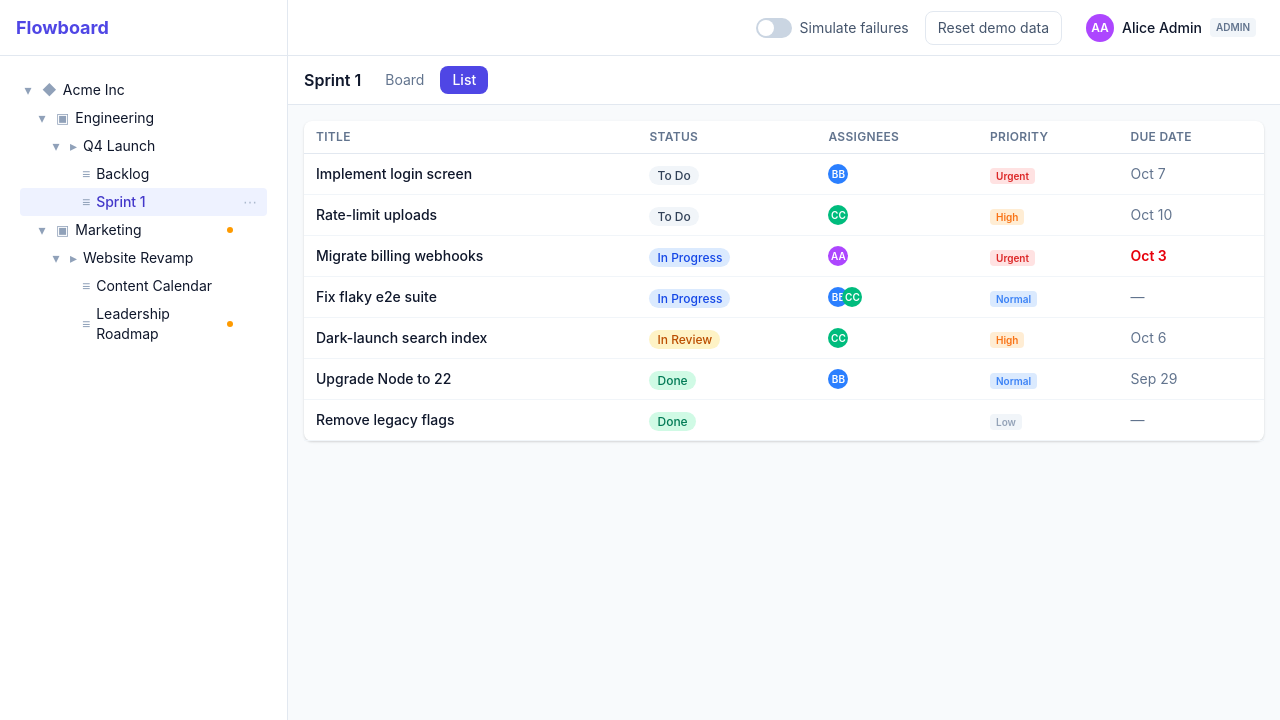
it: Priority header cycles asc -> desc -> off, reordering rows each time and showing direction
Click the button "Priority" at x=1019, y=137, box [990,129,1048,145]
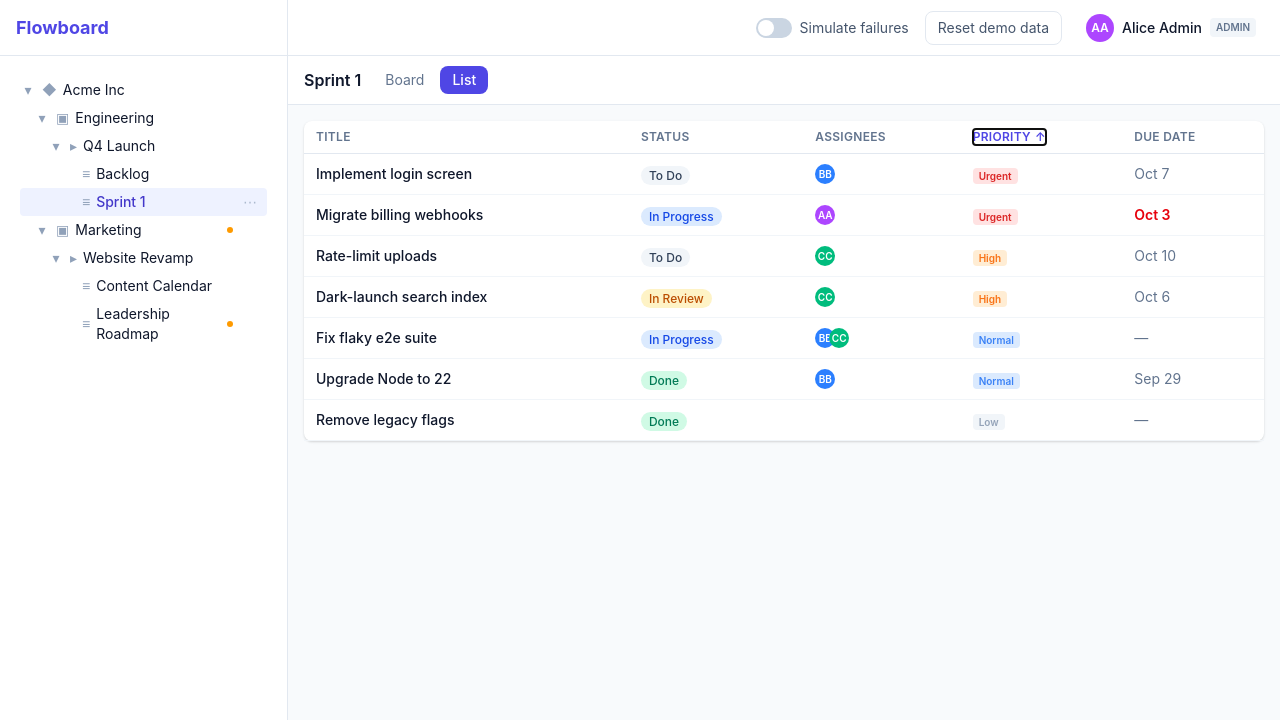
Now the button "Priority ↑" is shown
Click the button "Priority ↑" at x=1009, y=137, box [973,129,1046,145]
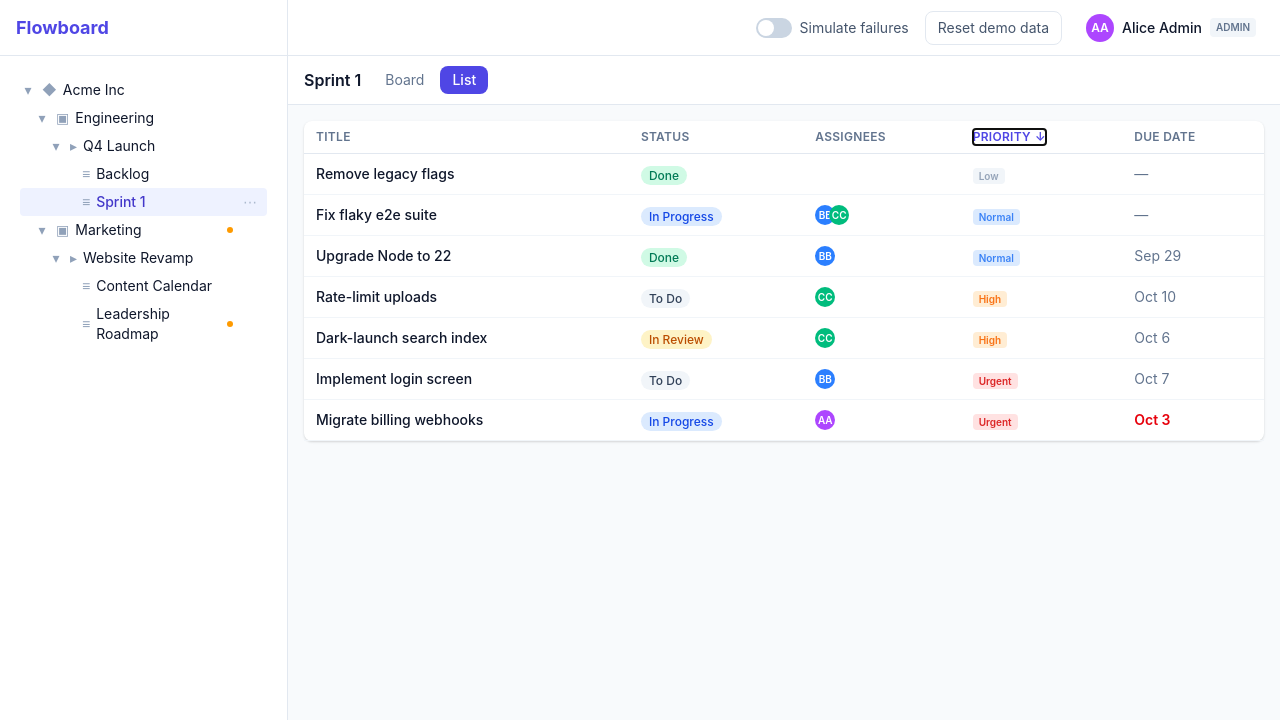
Now the button "Priority ↓" is shown
Click the button "Priority ↓" at x=1009, y=137, box [973,129,1046,145]
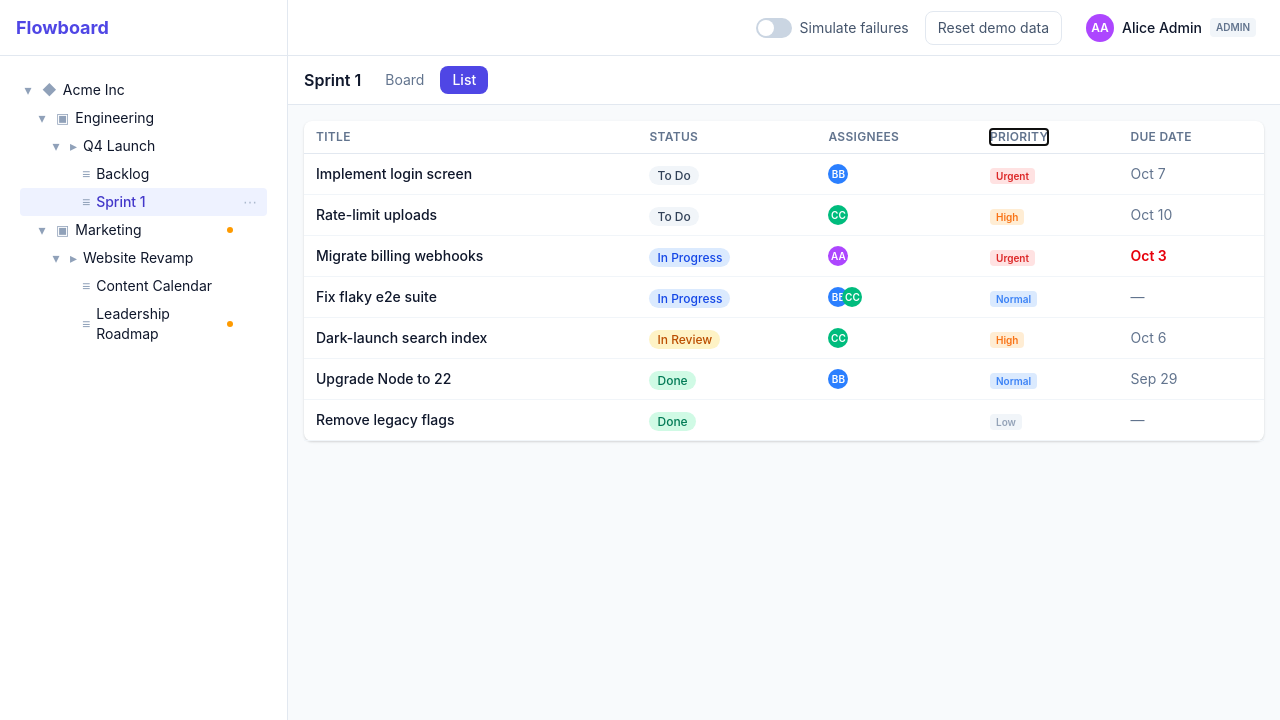
Now the button "Priority" does not show "↑", box [990,129,1048,145]
Now the button "Priority" no longer shows "↓", box [990,129,1048,145]
